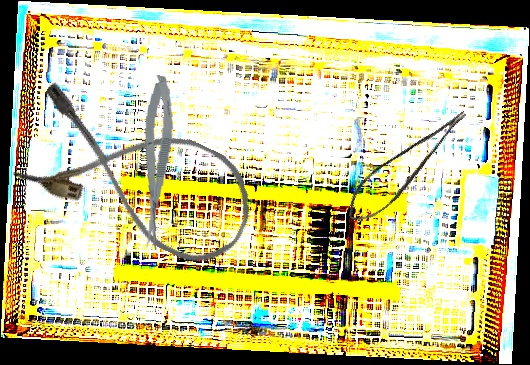Cannula: (6, 75, 270, 278)
Micro Scissor: (335, 106, 484, 230), (133, 74, 179, 251)
